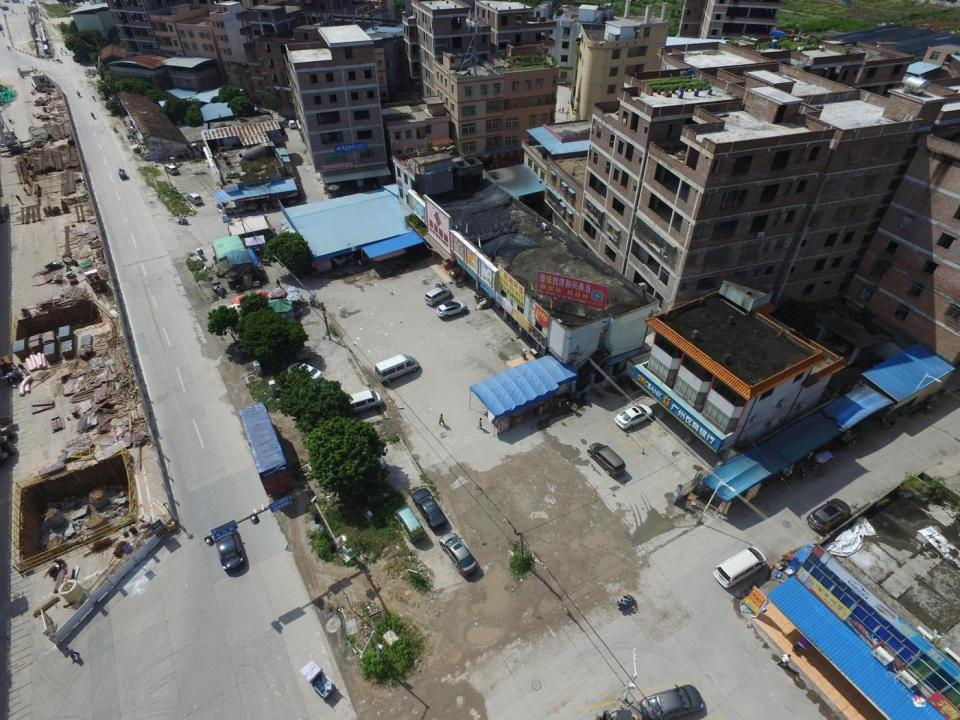car: (713, 546, 766, 588), (642, 683, 703, 717), (440, 534, 480, 575), (806, 498, 850, 534), (412, 488, 447, 532), (214, 522, 243, 572), (614, 404, 653, 431), (287, 363, 322, 386), (434, 299, 466, 323), (833, 332, 865, 356), (187, 193, 202, 206), (924, 402, 937, 415), (164, 165, 180, 175), (911, 406, 922, 418), (287, 120, 297, 129)
van: (375, 354, 420, 385), (588, 442, 625, 478), (394, 506, 426, 543), (344, 391, 382, 414), (425, 285, 451, 307), (291, 344, 310, 361)
